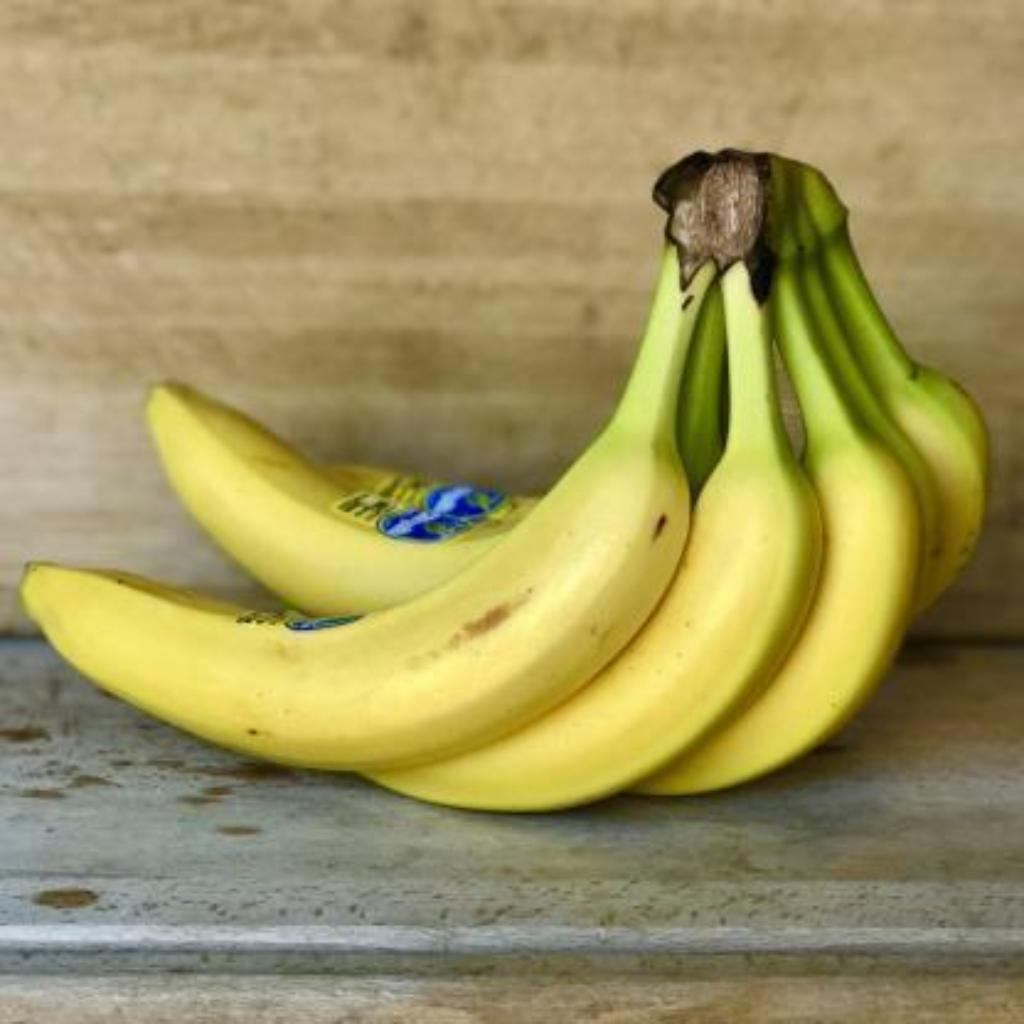banana: (25, 254, 719, 778), (374, 399, 827, 815), (639, 261, 911, 798), (143, 382, 534, 620), (830, 250, 983, 623)
